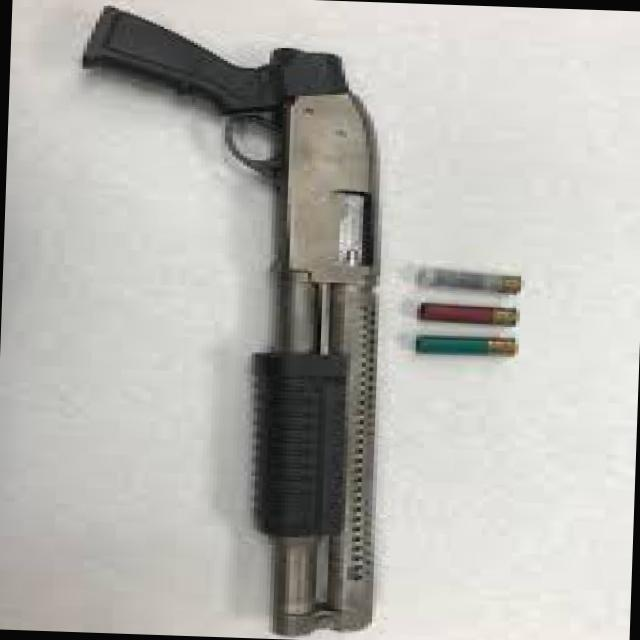long weapon: (88, 2, 423, 633)
